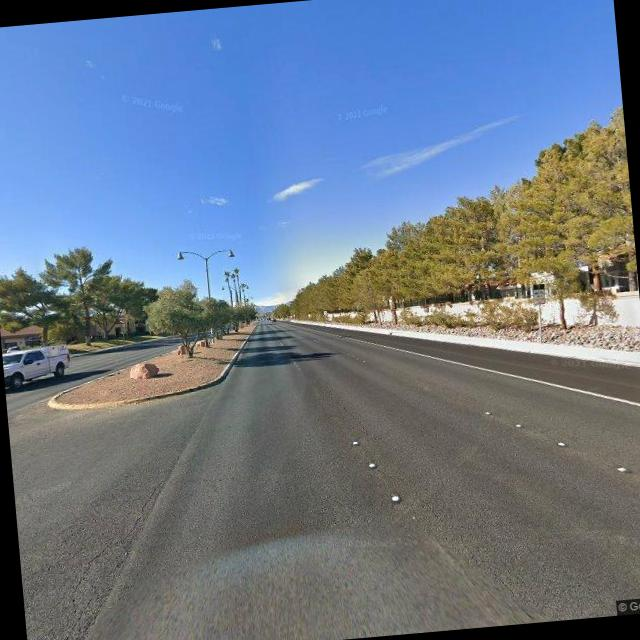pothole: (46, 480, 176, 640)
